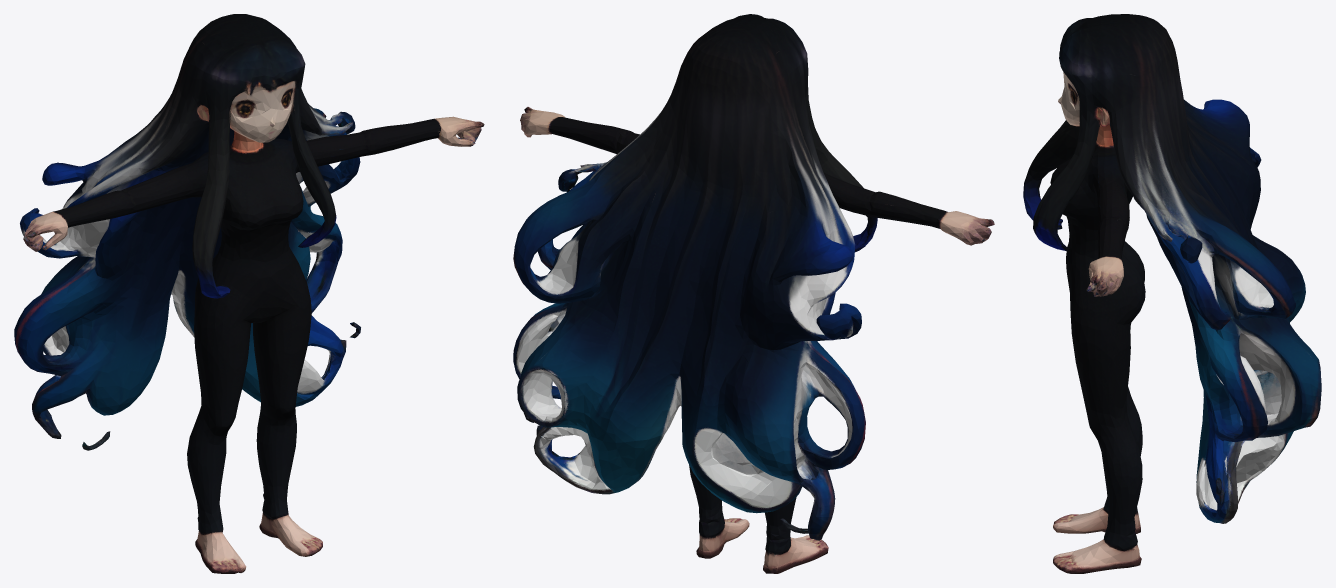
Rendered from soph_mesh.glb.
The picture shows the model from 3 angles, left to right: view 1: azimuth 30°, elevation 25°; view 2: azimuth 150°, elevation 25°; view 3: azimuth 270°, elevation 25°; orthographic projection. The views are drawn at different scales.
Visible parts, largest first — view 1: world; view 2: world; view 3: world.
Boxes of the visible parts, bbox=[...] form: world: bbox=[14, 14, 484, 573]; world: bbox=[513, 14, 994, 573]; world: bbox=[1023, 14, 1321, 573].
Size of the model in its own units: 0.9234 by 0.9997 by 0.5121.
1 material, 1 textured.
